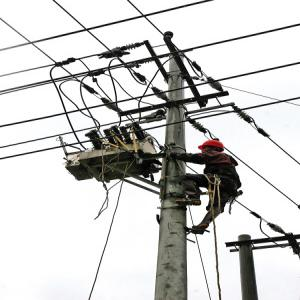red: (198, 139, 228, 155)
